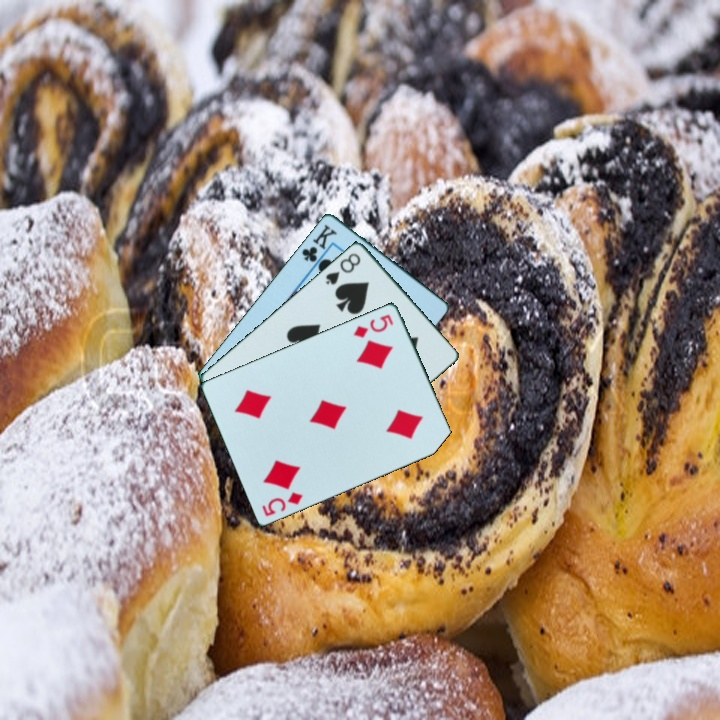5d: (258, 488, 306, 519), (350, 310, 396, 340)
8s: (322, 249, 364, 287)
Kc: (298, 220, 340, 265)
